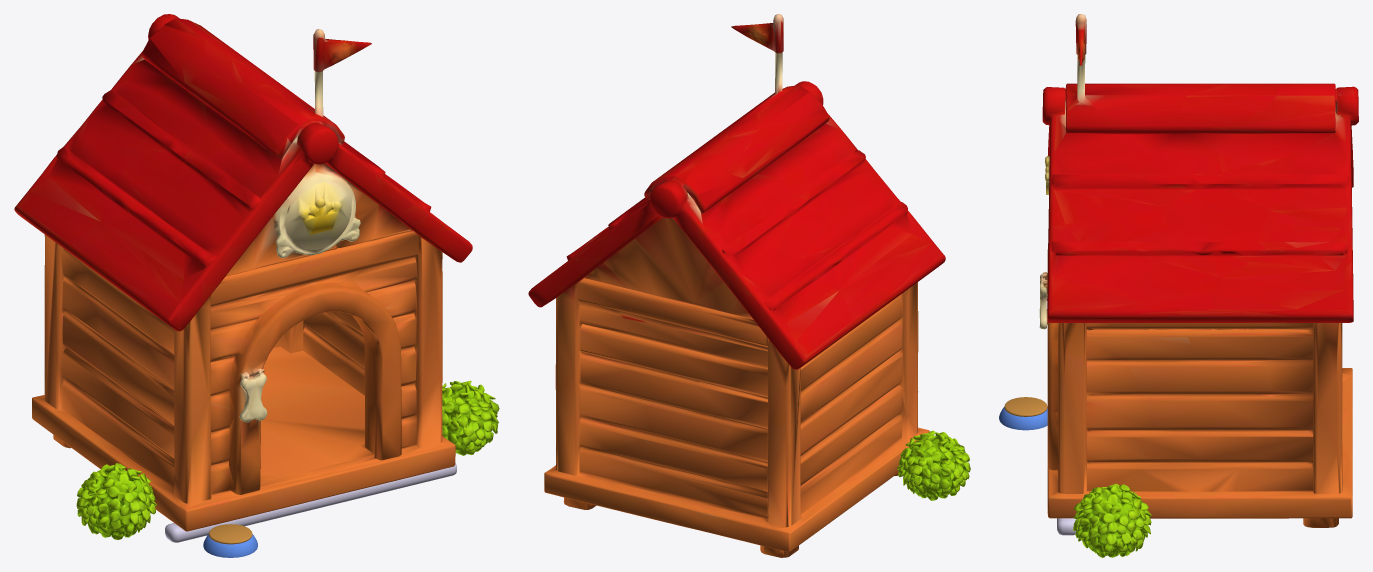
3 views of the same model, side by side, from view 1: azimuth 30°, elevation 25°; view 2: azimuth 150°, elevation 25°; view 3: azimuth 270°, elevation 25° (orthographic). The views are drawn at different scales.
Parts seen in each view (by area): view 1: Act_kennel; view 2: Act_kennel; view 3: Act_kennel.
Part boxes in pixels (x1,y1,x2,y2): Act_kennel: (14, 14, 499, 557); Act_kennel: (528, 14, 970, 557); Act_kennel: (999, 14, 1358, 557).
Size of the model in its own units: 6.51 by 7.06 by 4.98.
5 materials, 2 textured.
